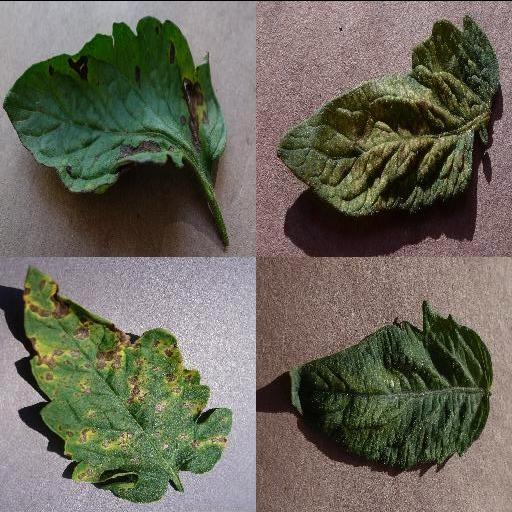Early Blight: (2, 14, 228, 195)
Septoria: (25, 264, 233, 504)
Spider Mites: (275, 15, 501, 215), (288, 300, 492, 468)
